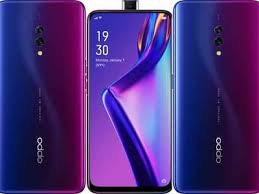oppo: (170, 1, 259, 194), (1, 1, 88, 194)
